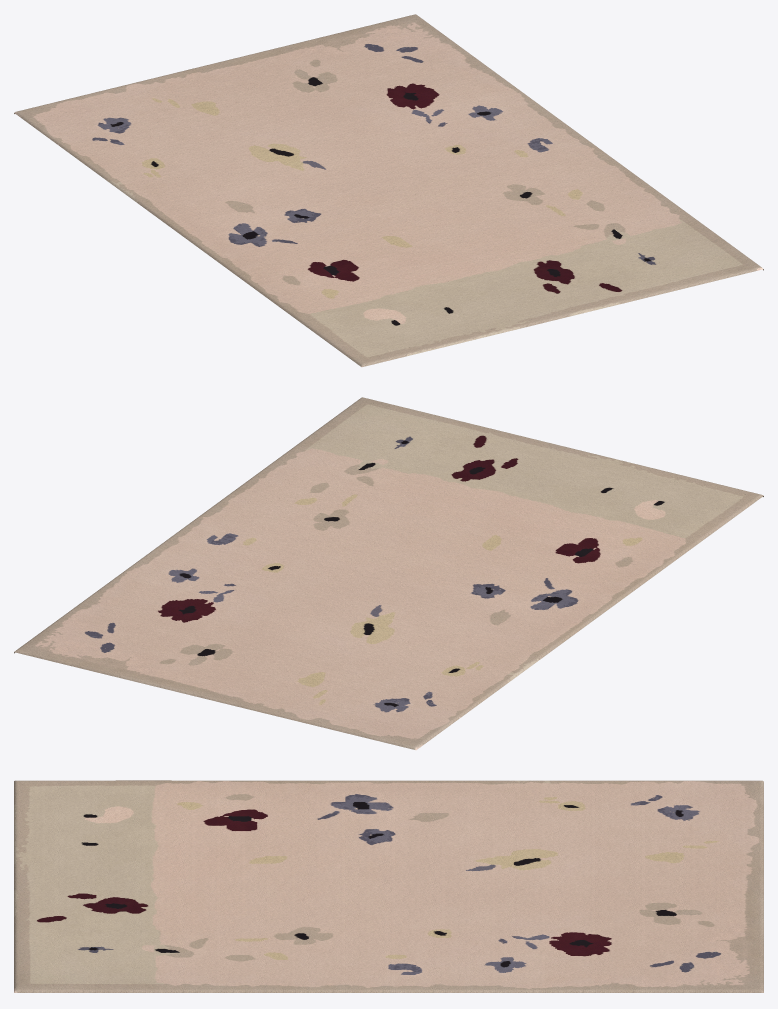
The model's file is belmont-old-rose.glb.
3 views of the same model, one above another, from view 1: azimuth 30°, elevation 25°; view 2: azimuth 150°, elevation 25°; view 3: azimuth 270°, elevation 25° (orthographic). The views are drawn at different scales.
Visible parts, largest first — view 1: rug; view 2: rug; view 3: rug.
Boxes of the visible parts, box(x1,y1,x2,y2) form: rug: box(14, 14, 763, 367); rug: box(14, 397, 763, 750); rug: box(14, 780, 763, 992).
Size of the model in its own units: 1.83 by 0.0162 by 2.74.
Materials: 8 (8 with a texture image).
